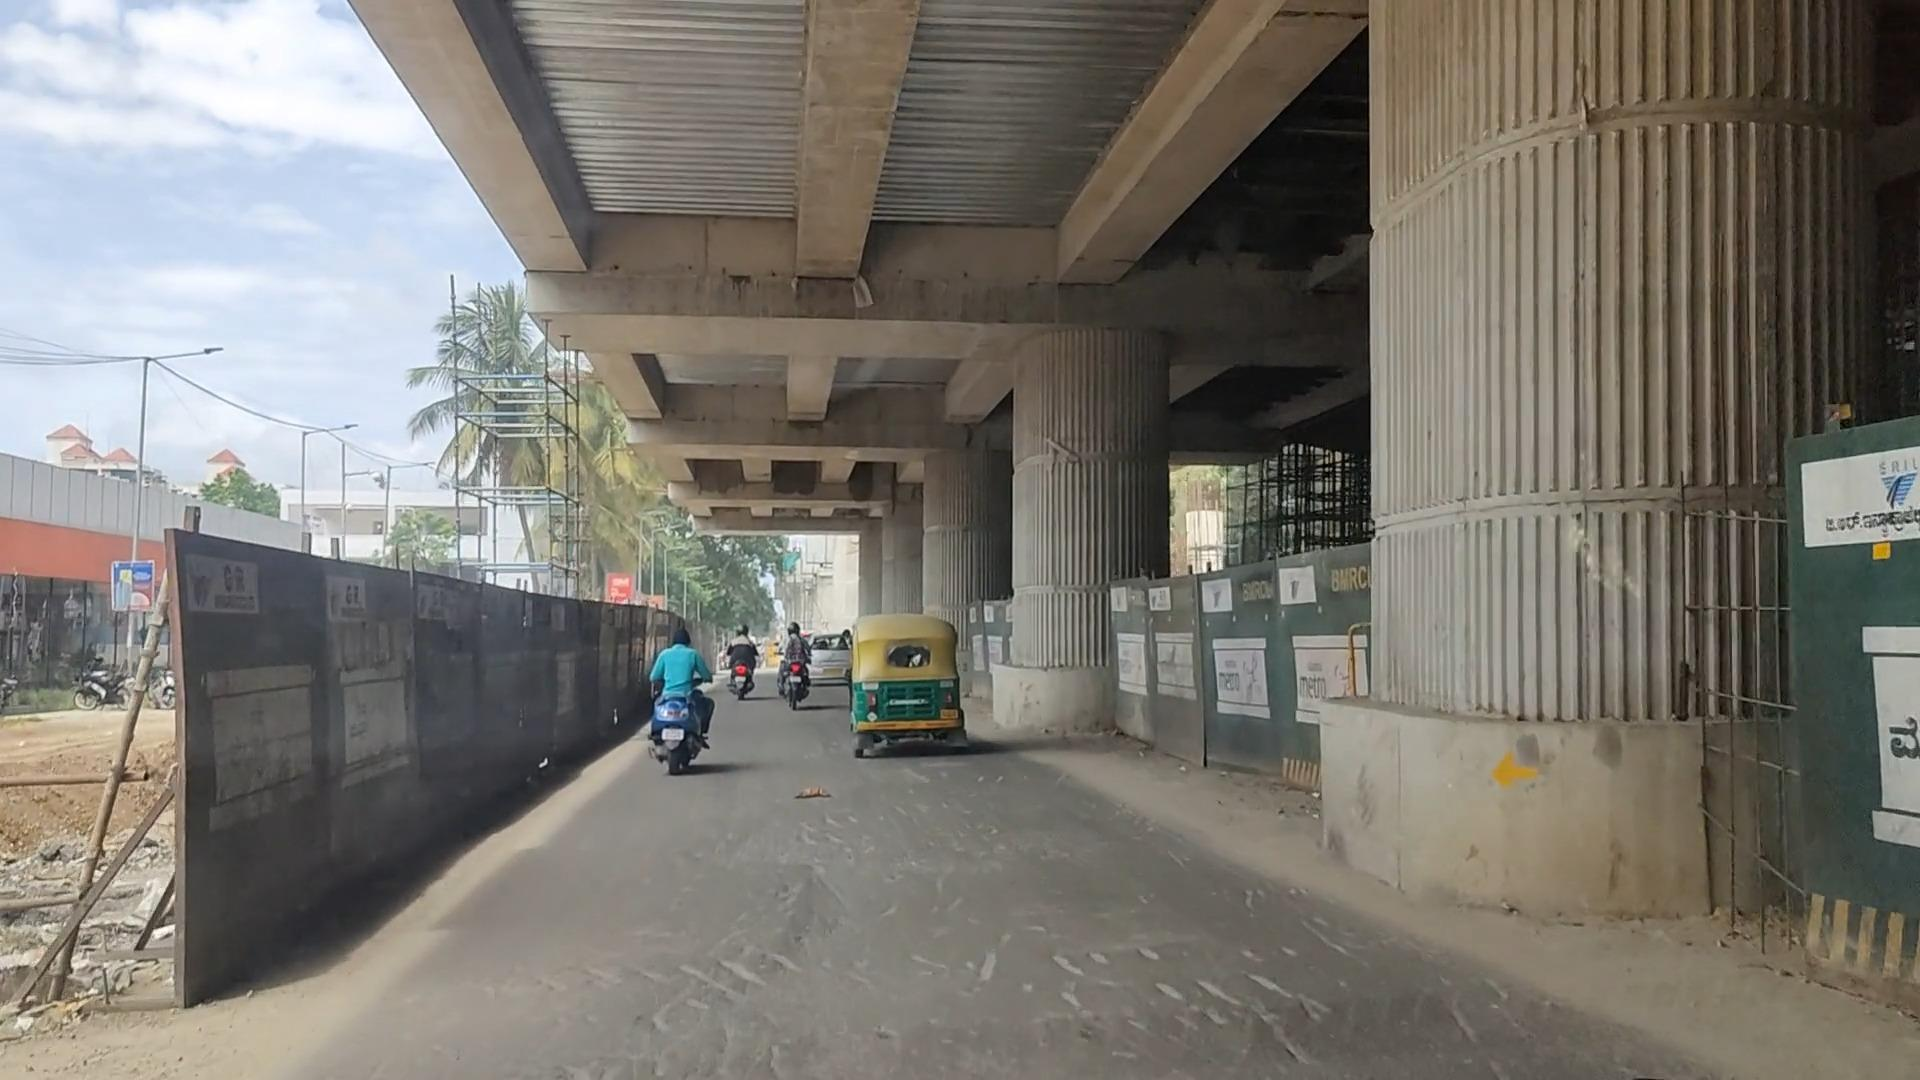LMV: (851, 605, 968, 762), (644, 607, 715, 782), (777, 609, 825, 737)
RoadDamages: (488, 907, 1594, 1075), (704, 778, 1242, 922)
